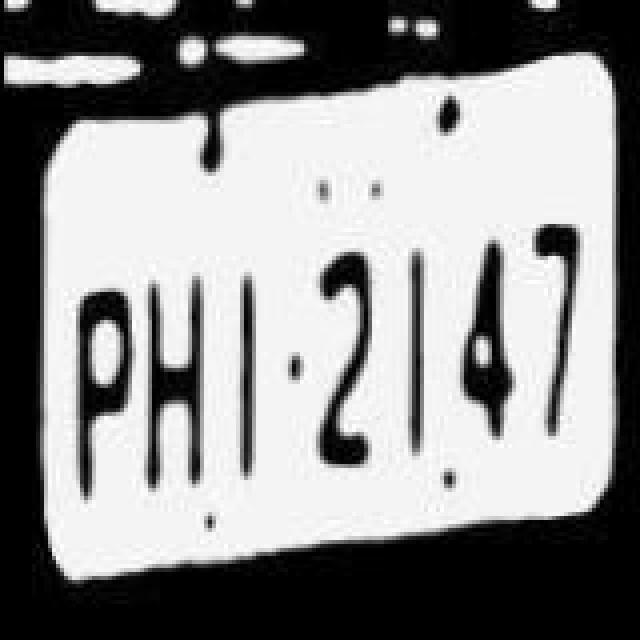1: (216, 258, 268, 486), (392, 240, 436, 472)
2: (298, 230, 386, 486)
4: (448, 212, 516, 460)
7: (516, 206, 592, 450)
H: (130, 260, 206, 504)
P: (58, 274, 134, 518)
